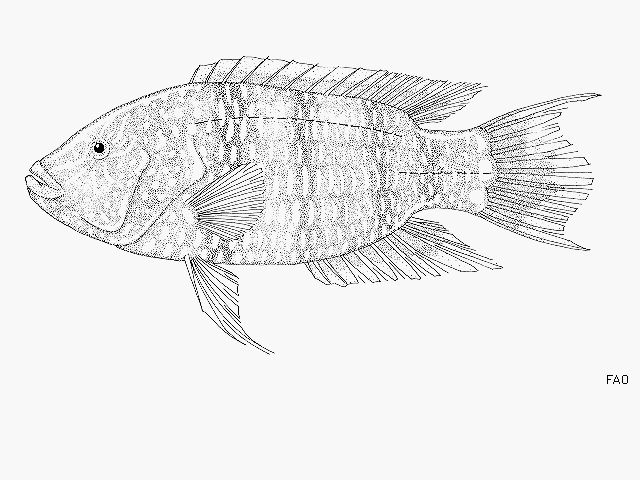fish: (23, 56, 606, 356)
